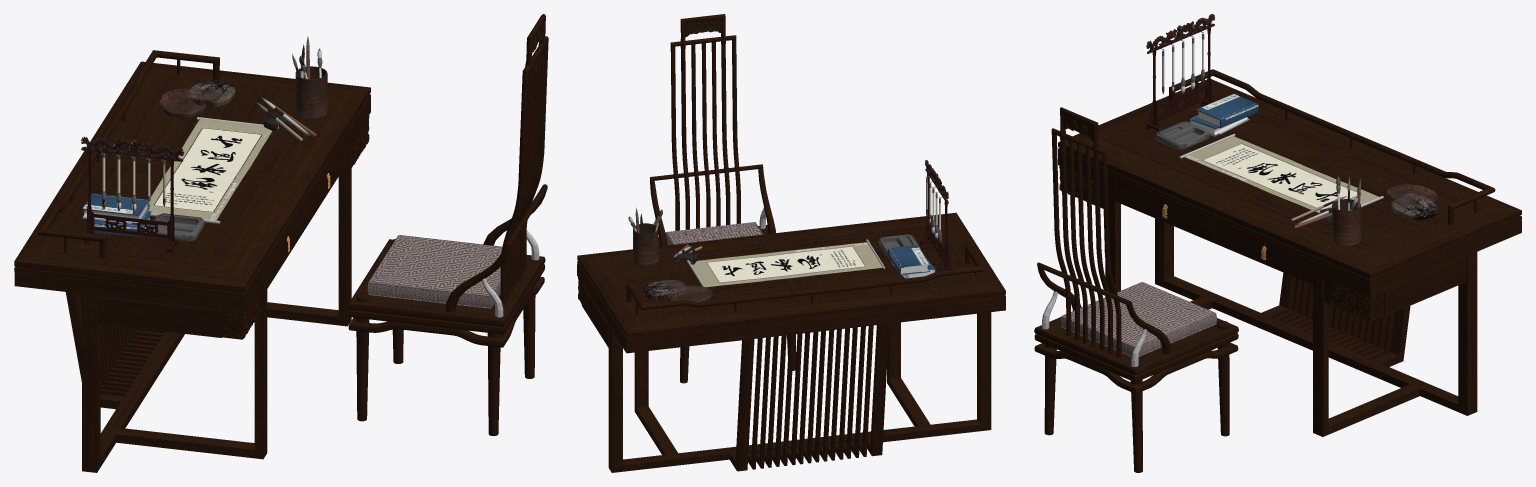
The model's file is 中式书桌.fbx.
The picture shows the model from 3 angles, left to right: view 1: azimuth 30°, elevation 25°; view 2: azimuth 150°, elevation 25°; view 3: azimuth 270°, elevation 25°; orthographic projection. The views are drawn at different scales.
Parts seen in each view (by area): view 1: Box25, Box26, Line01.002, Box02, Box01, LWPolyline.35, Box27, Line01.003, Line03, Box31, Line04.001, Line05.001 (+13 smaller); view 2: Box25, Box26, LWPolyline.35, Line01.002, Line05.001, Line01.003, Line04.001, Line03, Box02, NGon01, Tube01, B-16 (+6 smaller); view 3: Box25, Box26, Line01.002, LWPolyline.35, Box02, Box31, Box01, Line05.001, Line01.003, Line04.001, Line03, Box30 (+14 smaller).
Boxes of the visible parts, bbox=[...] form: Box25: bbox=[14, 61, 370, 297]; Box26: bbox=[14, 98, 370, 472]; Line01.002: bbox=[148, 119, 272, 220]; Box02: bbox=[367, 235, 502, 308]; Box01: bbox=[347, 239, 545, 334]; LWPolyline.35: bbox=[65, 292, 164, 409]; Box27: bbox=[97, 295, 222, 337]; Line01.003: bbox=[38, 50, 219, 258]; Line03: bbox=[500, 36, 548, 303]; Box31: bbox=[267, 135, 347, 288]; Line04.001: bbox=[506, 14, 546, 297]; Line05.001: bbox=[509, 52, 541, 292]; Box25: bbox=[577, 212, 1005, 341]; Box26: bbox=[577, 264, 1005, 472]; LWPolyline.35: bbox=[729, 323, 889, 471]; Line01.002: bbox=[690, 242, 882, 287]; Line05.001: bbox=[691, 41, 720, 228]; Line01.003: bbox=[626, 244, 983, 310]; Line04.001: bbox=[680, 14, 730, 229]; Line03: bbox=[670, 35, 740, 230]; Box02: bbox=[665, 222, 763, 245]; NGon01: bbox=[650, 164, 775, 246]; Tube01: bbox=[633, 223, 658, 264]; B-16: bbox=[887, 245, 929, 275]; Box25: bbox=[1058, 79, 1521, 283]; Box26: bbox=[1058, 152, 1521, 436]; Line01.002: bbox=[1184, 136, 1378, 213]; LWPolyline.35: bbox=[1261, 272, 1410, 366]; Box02: bbox=[1060, 282, 1216, 356]; Box31: bbox=[1115, 176, 1312, 284]; Box01: bbox=[1034, 317, 1238, 382]; Line05.001: bbox=[1068, 140, 1104, 350]; Line01.003: bbox=[1169, 69, 1495, 224]; Line04.001: bbox=[1059, 107, 1113, 354]; Line03: bbox=[1051, 128, 1121, 357]; Box30: bbox=[1384, 256, 1466, 316].
Size of the model in its own units: 186 by 138 by 177.
Materials: 26 (11 with a texture image).
